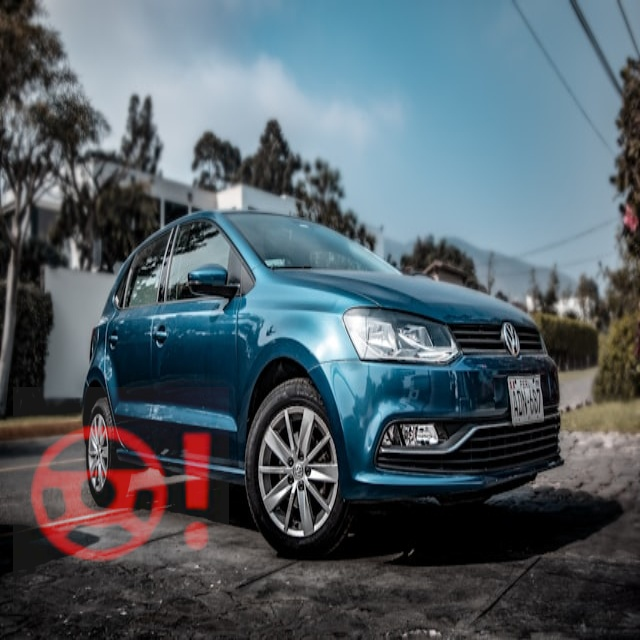symbol: (13, 387, 229, 603)
